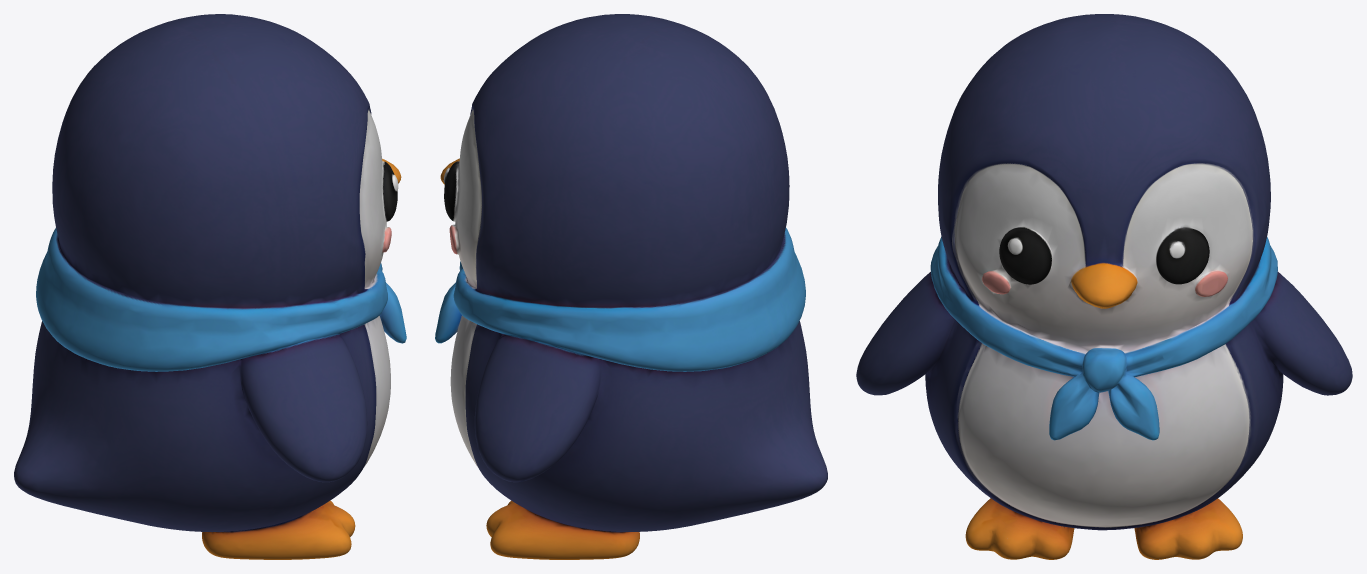
File: penguin.glb
3 renders of one model, left to right at view 1: azimuth 30°, elevation 25°; view 2: azimuth 150°, elevation 25°; view 3: azimuth 270°, elevation 25°, orthographic.
Parts seen in each view (by area): view 1: tripo_node_1c91abc6-e72e-4663-9bd1-e0a798ad2cdb; view 2: tripo_node_1c91abc6-e72e-4663-9bd1-e0a798ad2cdb; view 3: tripo_node_1c91abc6-e72e-4663-9bd1-e0a798ad2cdb.
Boxes of the visible parts, box(x1,y1,x2,y2) form: tripo_node_1c91abc6-e72e-4663-9bd1-e0a798ad2cdb: box(14, 14, 406, 559); tripo_node_1c91abc6-e72e-4663-9bd1-e0a798ad2cdb: box(435, 14, 827, 559); tripo_node_1c91abc6-e72e-4663-9bd1-e0a798ad2cdb: box(856, 14, 1352, 559).
Size of the model in its own units: 0.7939 by 0.9786 by 0.8985.
Materials: 1 (1 with a texture image).
